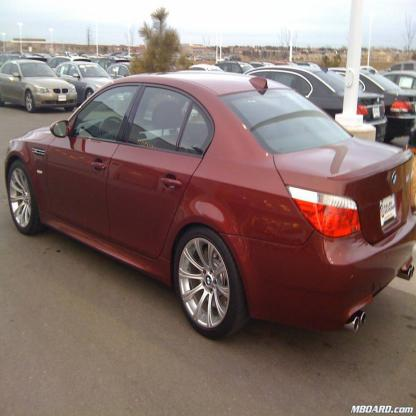Vehicle: (6, 67, 416, 338)
